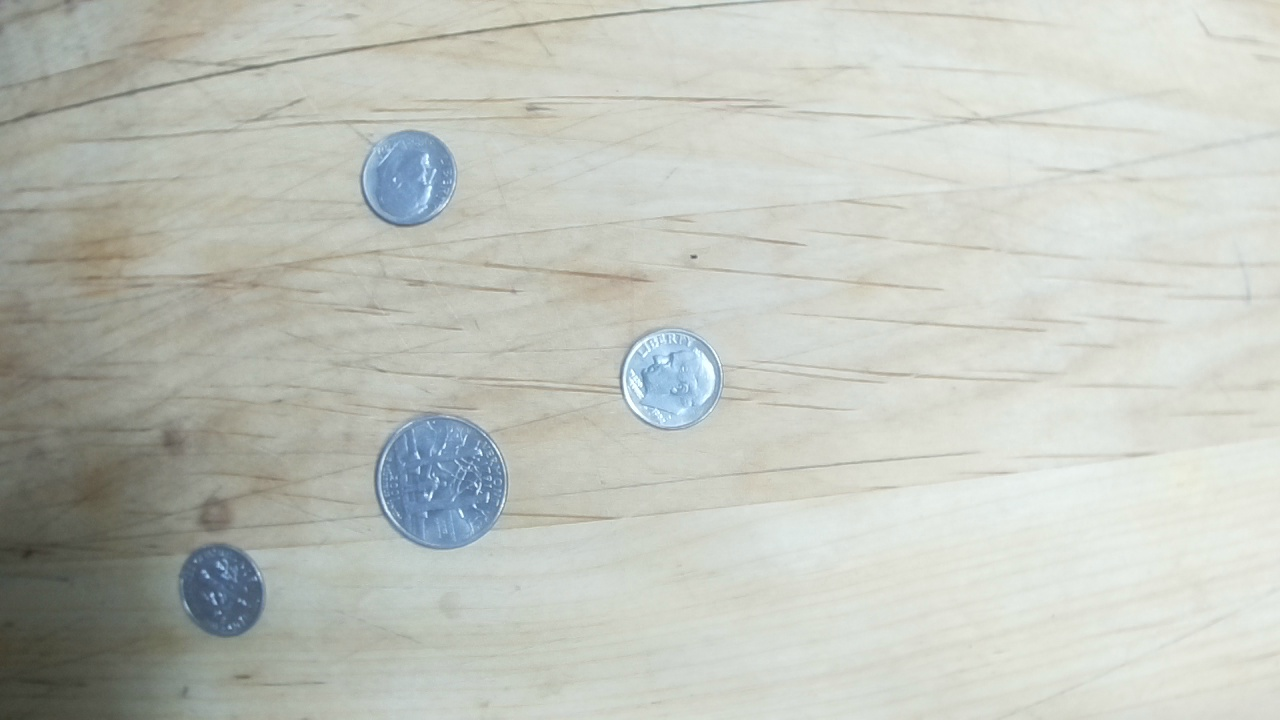dime: (616, 324, 724, 433), (358, 128, 460, 227), (178, 541, 265, 638)
quarter: (373, 412, 509, 554)
